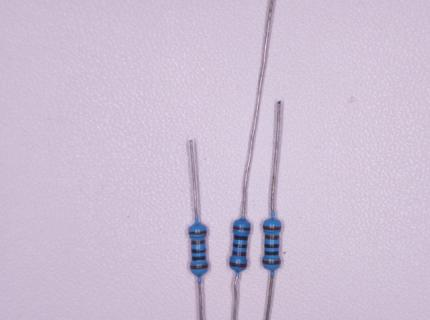Black band: (191, 248, 206, 253), (265, 243, 279, 248), (192, 256, 205, 261), (234, 236, 248, 240), (233, 244, 247, 248), (265, 251, 279, 255)
Brown band: (230, 262, 247, 268), (190, 264, 207, 269), (264, 226, 281, 231), (233, 251, 246, 257), (189, 231, 207, 235), (262, 260, 280, 264), (191, 240, 205, 245), (234, 226, 250, 230), (266, 236, 279, 240)
